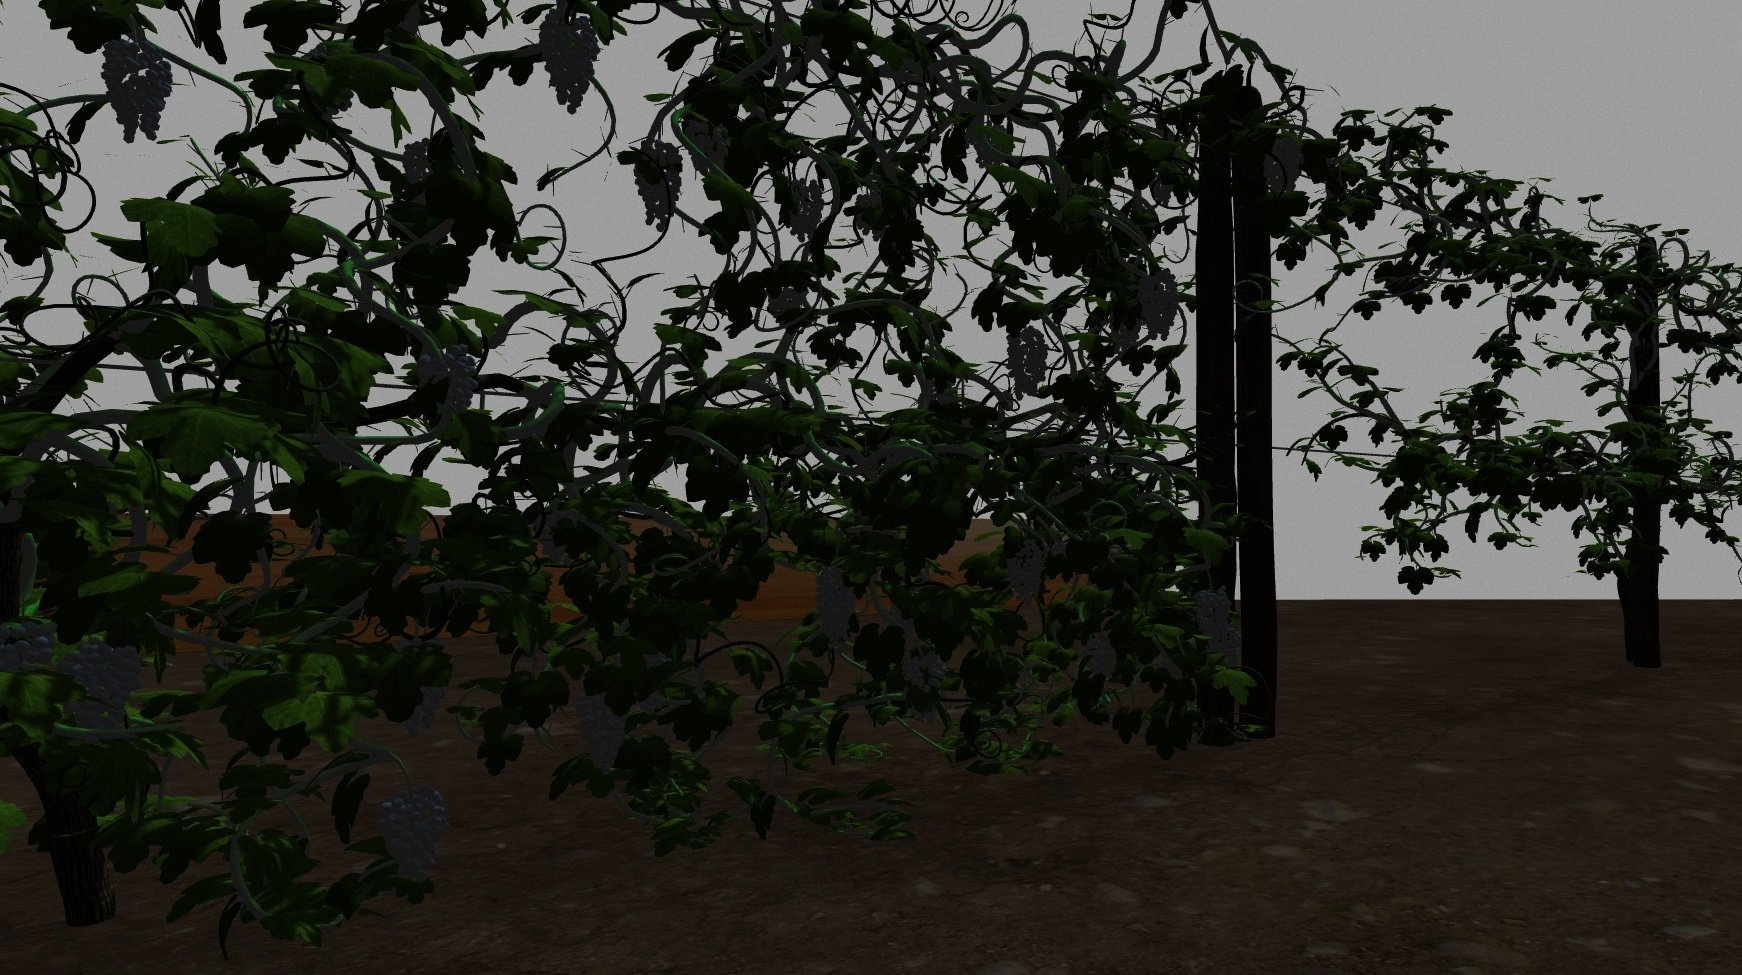grape: (56, 633, 142, 735), (100, 39, 173, 144), (374, 785, 449, 883), (536, 10, 601, 114), (572, 682, 635, 776), (415, 345, 479, 428), (631, 142, 686, 232), (812, 567, 860, 647), (1006, 327, 1048, 400), (1140, 267, 1180, 339), (2, 618, 55, 668), (784, 178, 824, 242), (1007, 540, 1046, 605), (1262, 136, 1303, 195), (686, 118, 727, 173), (1193, 589, 1230, 640), (902, 648, 945, 690), (1207, 627, 1242, 669), (1083, 636, 1116, 680)
